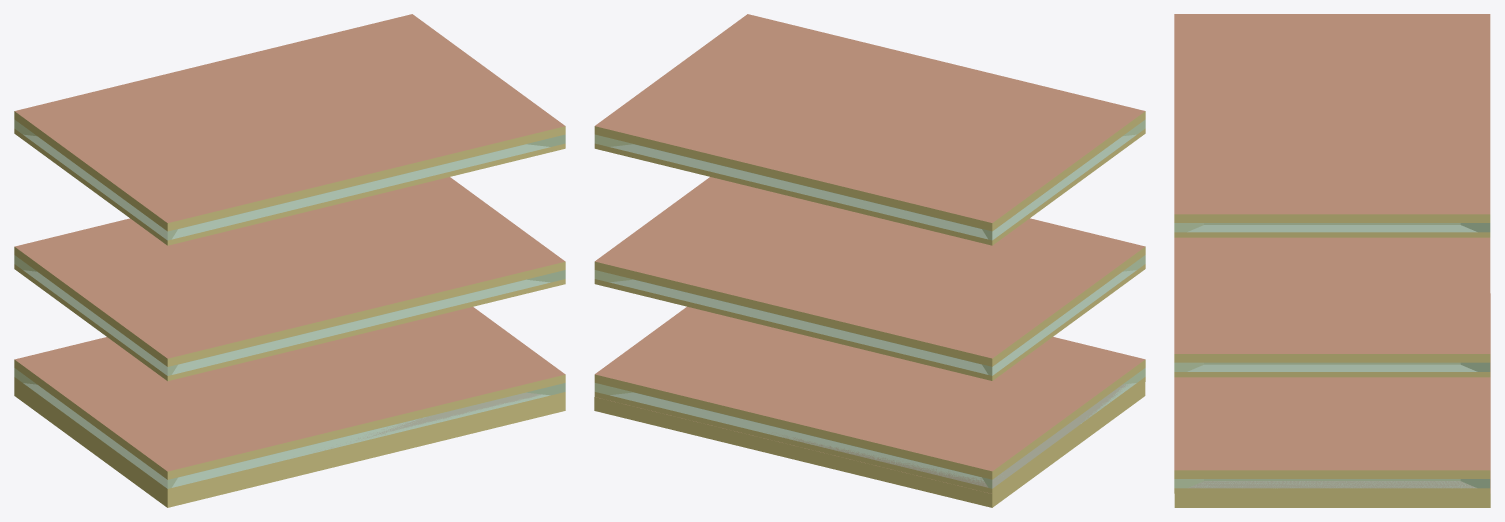
File: RefBldgLargeOfficeNew2004_Chicago.gltf
3 renders of one model, left to right at view 1: azimuth 30°, elevation 25°; view 2: azimuth 150°, elevation 25°; view 3: azimuth 270°, elevation 25°, orthographic. The views are drawn at different scales.
Visible parts, largest first — view 1: Building_Roof, MidFloor_Plenum_Ceiling, GroundFloor_Plenum_Ceiling, Basement_Wall_South, Perimeter_mid_ZN_1_Wall_South_Window, Perimeter_bot_ZN_1_Wall_South_Window, Perimeter_top_ZN_1_Wall_South_Window, Perimeter_top_ZN_1_Floor, Perimeter_mid_ZN_1_Floor, Perimeter_top_ZN_1_Wall_South, Perimeter_mid_ZN_1_Wall_South, Perimeter_bot_ZN_1_Wall_South (+18 smaller); view 2: Building_Roof, MidFloor_Plenum_Ceiling, GroundFloor_Plenum_Ceiling, Basement_Wall_North, Perimeter_mid_ZN_3_Wall_North_Window, Perimeter_bot_ZN_3_Wall_North_Window, Perimeter_top_ZN_3_Wall_North_Window, Perimeter_mid_ZN_3_Floor, Perimeter_top_ZN_3_Floor, Perimeter_mid_ZN_3_Wall_North, Perimeter_bot_ZN_3_Wall_North, Perimeter_top_ZN_3_Wall_North (+18 smaller); view 3: Building_Roof, MidFloor_Plenum_Ceiling, GroundFloor_Plenum_Ceiling, Basement_Wall_East, Perimeter_bot_ZN_2_Wall_East_Window, Perimeter_mid_ZN_2_Wall_East_Window, Perimeter_top_ZN_2_Wall_East_Window, GroundFloor_Plenum_Wall_East, Perimeter_top_ZN_2_Wall_East, Perimeter_bot_ZN_2_Wall_East, Perimeter_mid_ZN_2_Wall_East, TopFloor_Plenum_Wall_East (+7 smaller).
Part boxes in pixels (x1,y1,x2,y2): Building_Roof: (15,14,565,222); MidFloor_Plenum_Ceiling: (14,177,565,358); GroundFloor_Plenum_Ceiling: (14,307,565,471); Basement_Wall_South: (167,397,565,507); Perimeter_mid_ZN_1_Wall_South_Window: (167,270,565,375); Perimeter_bot_ZN_1_Wall_South_Window: (167,383,565,488); Perimeter_top_ZN_1_Wall_South_Window: (167,135,565,240); Perimeter_top_ZN_1_Floor: (172,144,549,239); Perimeter_mid_ZN_1_Floor: (172,280,549,374); Perimeter_top_ZN_1_Wall_South: (167,133,565,245); Perimeter_mid_ZN_1_Wall_South: (167,268,565,380); Perimeter_bot_ZN_1_Wall_South: (167,381,565,493); Building_Roof: (595,14,1144,222); MidFloor_Plenum_Ceiling: (595,177,1145,358); GroundFloor_Plenum_Ceiling: (595,306,1144,471); Basement_Wall_North: (594,397,992,507); Perimeter_mid_ZN_3_Wall_North_Window: (594,270,992,375); Perimeter_bot_ZN_3_Wall_North_Window: (594,383,992,488); Perimeter_top_ZN_3_Wall_North_Window: (594,134,992,240); Perimeter_mid_ZN_3_Floor: (610,280,987,374); Perimeter_top_ZN_3_Floor: (611,144,987,238); Perimeter_mid_ZN_3_Wall_North: (594,268,992,380); Perimeter_bot_ZN_3_Wall_North: (594,381,992,493); Perimeter_top_ZN_3_Wall_North: (594,133,992,245); Building_Roof: (1174,14,1490,214); MidFloor_Plenum_Ceiling: (1174,237,1490,353); GroundFloor_Plenum_Ceiling: (1174,377,1490,470); Basement_Wall_East: (1174,493,1490,507); Perimeter_bot_ZN_2_Wall_East_Window: (1174,479,1490,488); Perimeter_mid_ZN_2_Wall_East_Window: (1174,362,1490,371); Perimeter_top_ZN_2_Wall_East_Window: (1174,223,1490,232); GroundFloor_Plenum_Wall_East: (1174,470,1490,477); Perimeter_top_ZN_2_Wall_East: (1174,221,1490,237); Perimeter_bot_ZN_2_Wall_East: (1174,477,1490,493); Perimeter_mid_ZN_2_Wall_East: (1174,361,1490,377); TopFloor_Plenum_Wall_East: (1174,214,1490,221).
Bounding box in the file's own units: 73.11 × 50 × 48.78.
